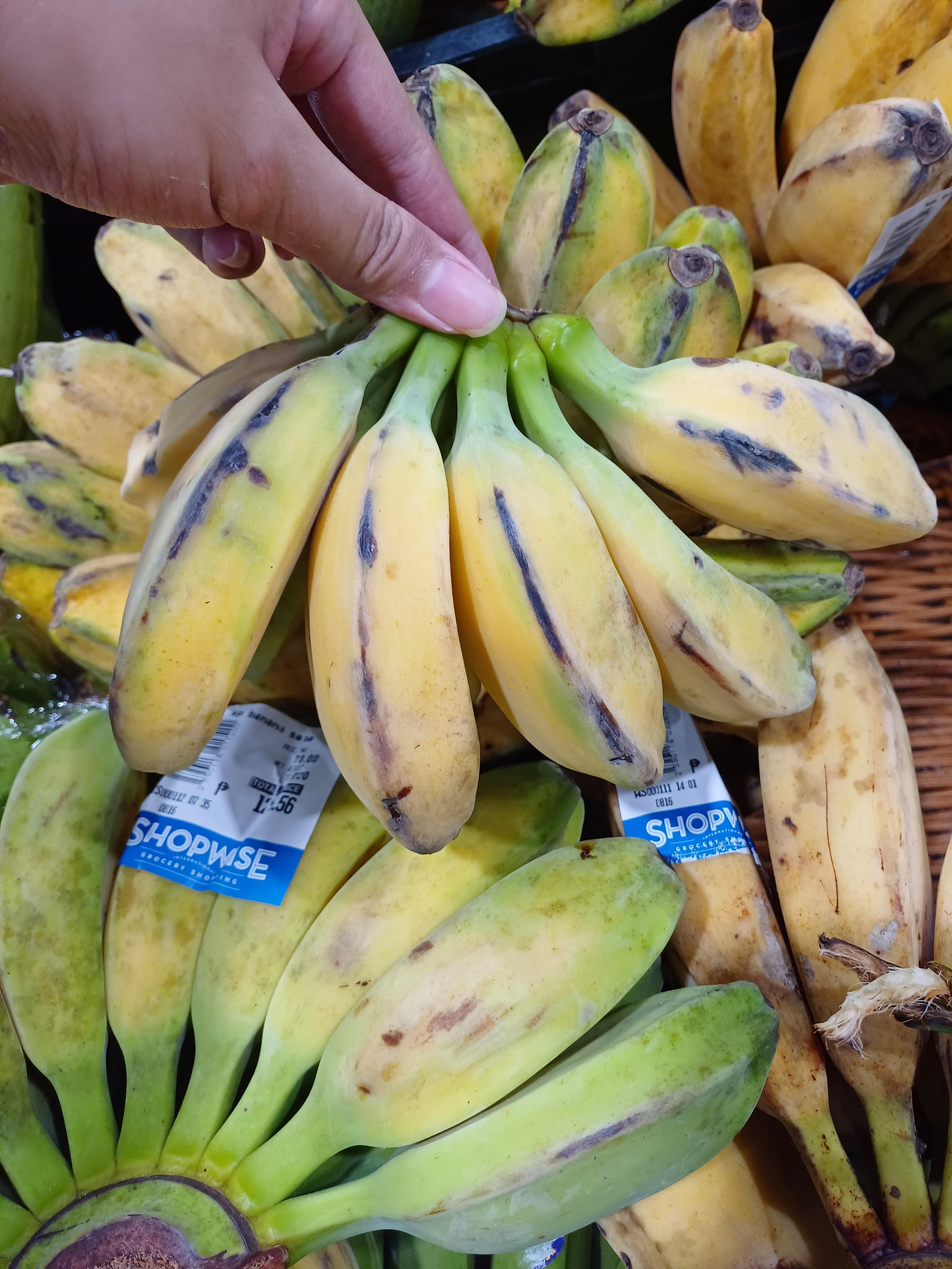ripe: (671, 0, 952, 382)
underripe: (111, 334, 935, 853), (0, 711, 778, 1254), (403, 63, 760, 368)
